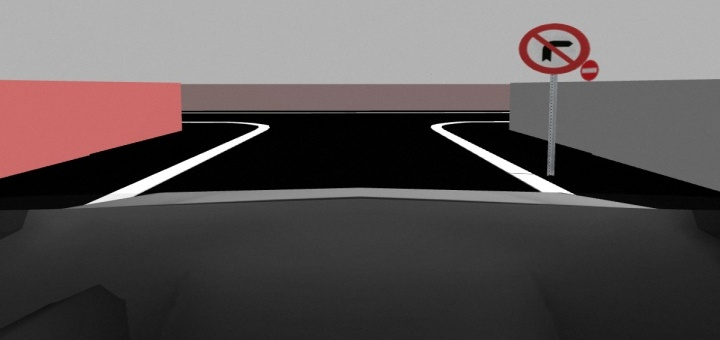saga_donulmez: (518, 23, 590, 74)
